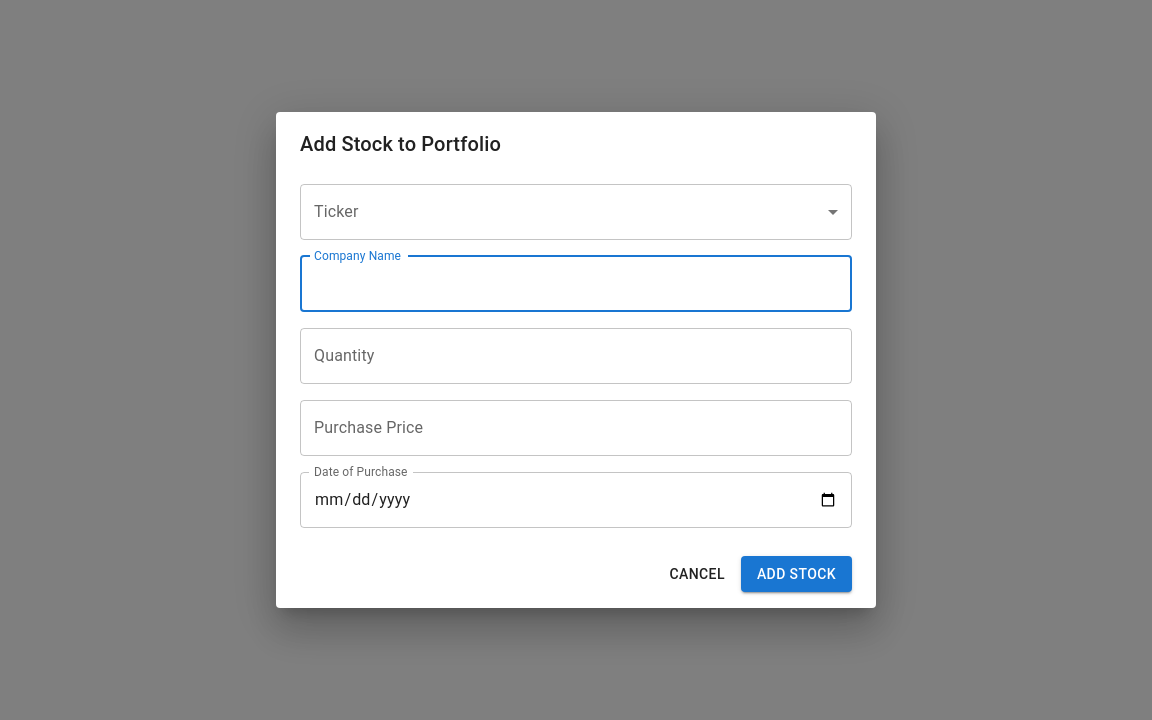
Test: StockFormModal › shows validation errors when submitting empty form
Click the button "Add Stock" at (796, 574), box [741,556,852,592]
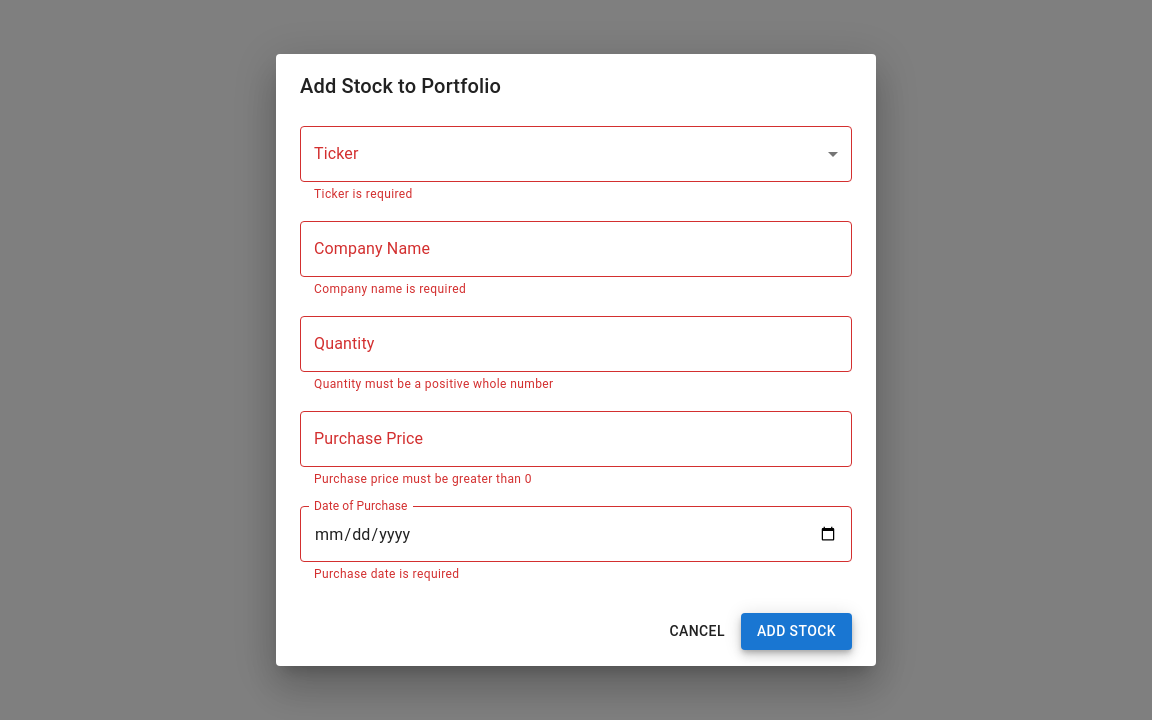
Now the text "Ticker is required" is shown, box [314,188,413,202]
Now the text "Company name is required" is shown, box [314,282,466,296]
Now the text "Quantity must be a positive whole number" is shown, box [314,377,554,391]
